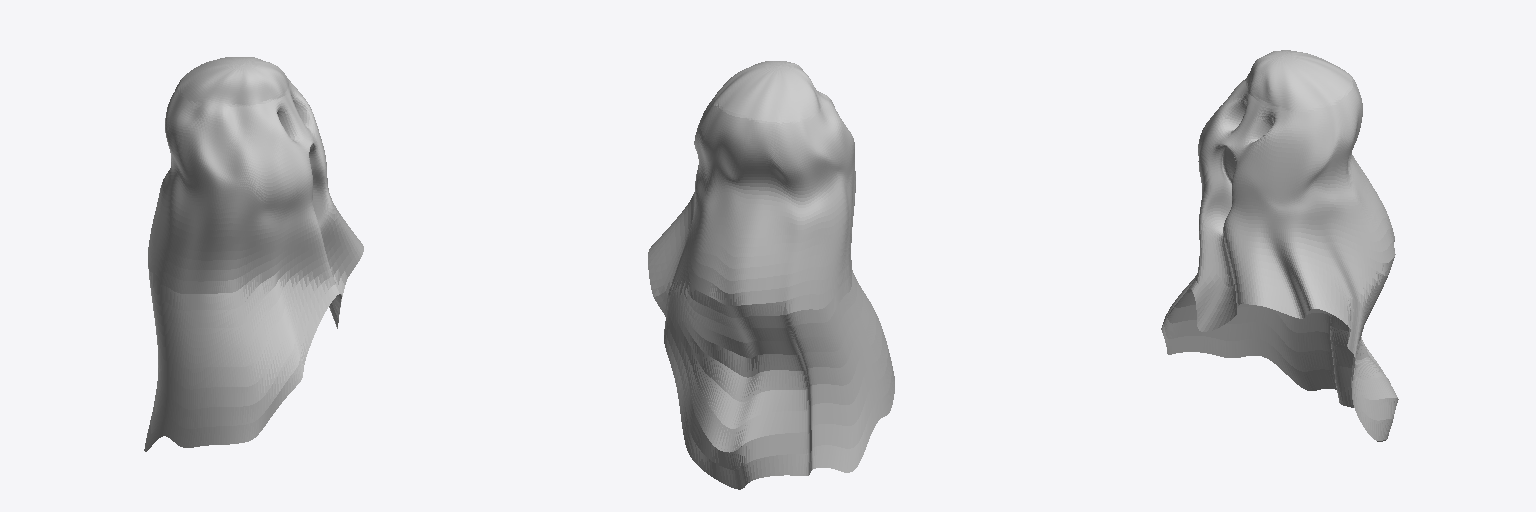
Rendered from ghost_000027.obj.
The picture shows the model from 3 angles: view 1: azimuth 30°, elevation 25°; view 2: azimuth 150°, elevation 25°; view 3: azimuth 270°, elevation 25°; orthographic projection.
Visible parts, largest first — view 1: 球体; view 2: 球体; view 3: 球体.
Part boxes in pixels (left/top/right/bottom): 球体: left=144, top=57, right=363, bottom=451; 球体: left=648, top=61, right=894, bottom=489; 球体: left=1161, top=50, right=1398, bottom=441.
Bounding box in the file's own units: 8.62 × 15.89 × 8.82.